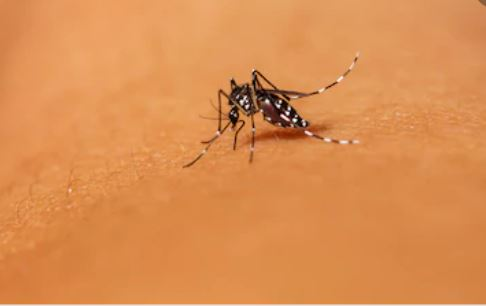dengue_mosquito: (201, 69, 359, 146)
